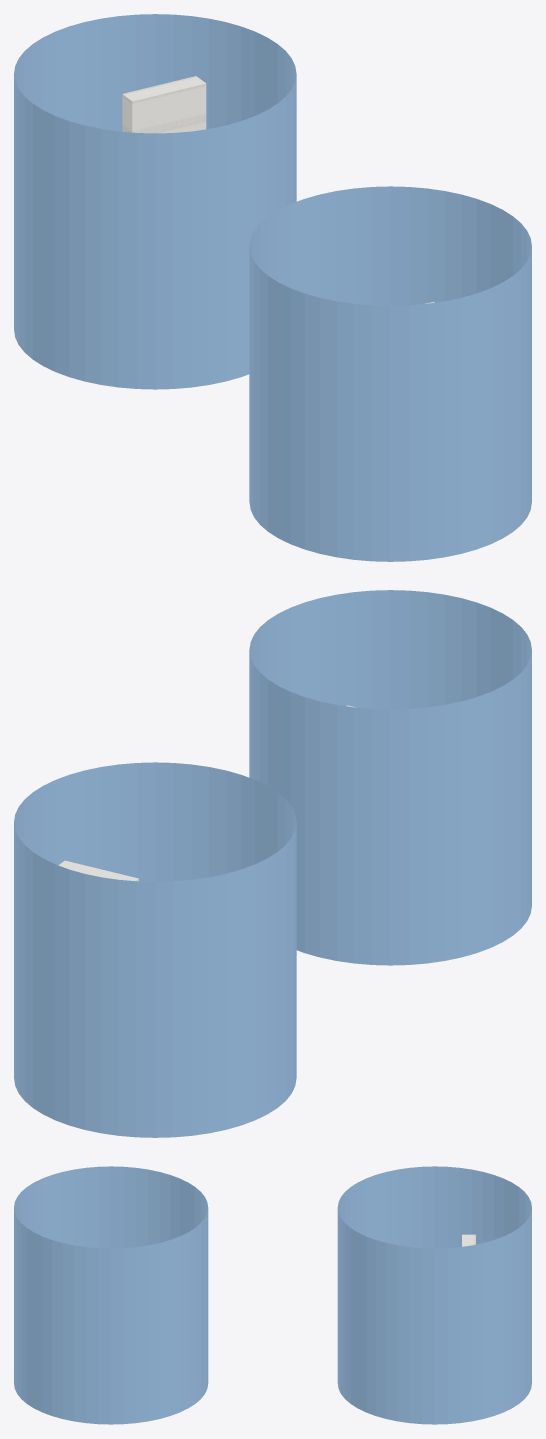
Rendered from house_5.glb.
The picture shows the model from 3 angles, top to bottom: view 1: azimuth 30°, elevation 25°; view 2: azimuth 150°, elevation 25°; view 3: azimuth 270°, elevation 25°; orthographic projection. The views are drawn at different scales.
Visible parts, largest first — view 1: house_5_lm_2, house_5_fx_1, house_5_lm_1; view 2: house_5_fx_1, house_5_lm_2; view 3: house_5_lm_2, house_5_fx_1.
Part boxes in pixels (bbox=[...]): house_5_lm_2: bbox=[249, 186, 531, 561]; house_5_fx_1: bbox=[14, 14, 296, 389]; house_5_lm_1: bbox=[122, 76, 206, 133]; house_5_fx_1: bbox=[14, 762, 296, 1137]; house_5_lm_2: bbox=[249, 590, 531, 965]; house_5_lm_2: bbox=[14, 1166, 208, 1424]; house_5_fx_1: bbox=[337, 1166, 531, 1424].
Size of the model in its own units: 18 by 18 by 48.
37 materials, 28 textured.
